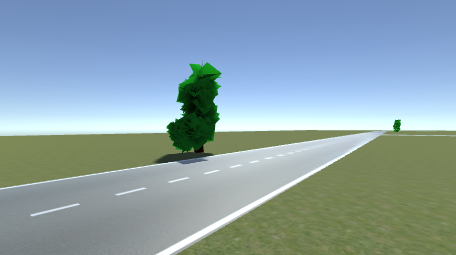tree: (167, 63, 223, 154), (394, 119, 401, 133)
